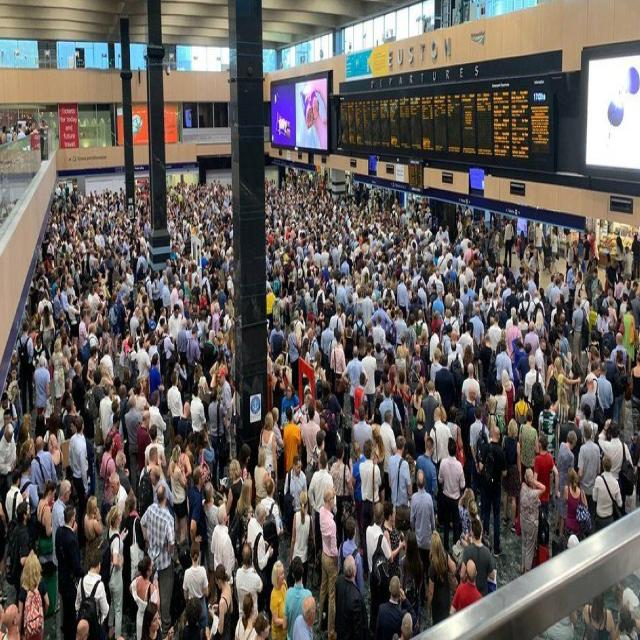Walking: (289, 494, 313, 602), (18, 551, 46, 640), (401, 531, 425, 625)
human: (140, 487, 176, 634), (55, 505, 84, 640), (365, 503, 393, 634), (479, 418, 506, 553), (438, 440, 466, 557), (35, 491, 59, 627), (76, 545, 110, 640), (318, 493, 340, 638), (148, 486, 175, 604), (249, 508, 276, 624), (308, 450, 334, 569), (519, 469, 547, 576), (334, 553, 368, 640), (543, 564, 579, 640), (129, 555, 161, 640), (359, 444, 384, 552), (182, 541, 210, 637), (121, 496, 144, 612), (6, 502, 32, 604), (410, 472, 436, 572), (465, 516, 497, 597), (427, 534, 455, 626), (235, 548, 263, 638), (211, 510, 236, 609), (107, 508, 126, 638), (68, 416, 90, 524), (501, 418, 521, 534), (592, 458, 622, 535), (577, 428, 601, 524), (375, 577, 411, 640), (556, 427, 575, 536), (387, 434, 411, 516), (384, 506, 406, 594), (452, 498, 477, 575), (230, 480, 250, 576), (187, 471, 206, 570), (563, 468, 588, 543), (460, 383, 478, 484), (351, 442, 367, 554), (414, 439, 438, 513), (450, 560, 482, 614), (79, 390, 97, 486), (533, 438, 556, 512), (31, 436, 58, 498), (598, 422, 624, 486), (617, 431, 637, 514), (468, 404, 486, 494), (169, 448, 189, 529), (125, 395, 144, 476), (537, 391, 559, 460), (51, 481, 68, 570), (202, 486, 220, 570), (581, 594, 615, 638), (269, 562, 288, 639), (18, 327, 34, 418), (300, 406, 322, 472), (434, 352, 456, 417), (352, 404, 374, 468), (605, 348, 623, 426), (518, 410, 538, 479), (99, 436, 117, 512), (149, 458, 173, 514), (4, 467, 26, 528), (282, 409, 302, 476), (226, 458, 244, 532), (207, 388, 224, 465), (18, 452, 38, 517), (0, 424, 17, 500), (594, 362, 614, 426), (291, 594, 318, 640), (254, 449, 274, 509), (319, 406, 339, 466), (46, 413, 66, 471), (34, 358, 51, 423), (139, 602, 168, 640), (618, 589, 640, 638), (51, 340, 65, 417), (190, 385, 207, 446), (109, 470, 128, 524), (84, 494, 103, 548), (136, 414, 152, 478), (578, 404, 598, 454), (167, 375, 183, 436), (578, 374, 597, 424), (512, 338, 529, 391), (2, 379, 20, 428), (461, 365, 480, 410), (490, 378, 507, 428), (572, 301, 586, 361), (1, 601, 22, 640), (281, 385, 299, 429), (501, 371, 515, 427), (411, 412, 427, 459), (41, 308, 55, 360), (602, 321, 617, 361), (517, 285, 532, 322), (503, 220, 514, 267), (606, 256, 618, 294), (534, 223, 544, 260), (623, 243, 633, 280), (550, 227, 559, 268), (566, 236, 575, 273), (634, 232, 640, 281), (528, 221, 536, 249), (16, 124, 26, 140)
